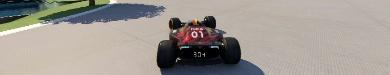Car: (155, 15, 241, 68)
